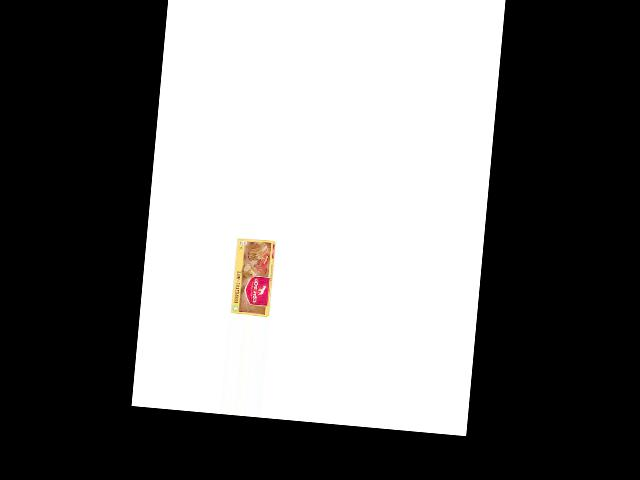chocolate: (224, 235, 277, 317)
